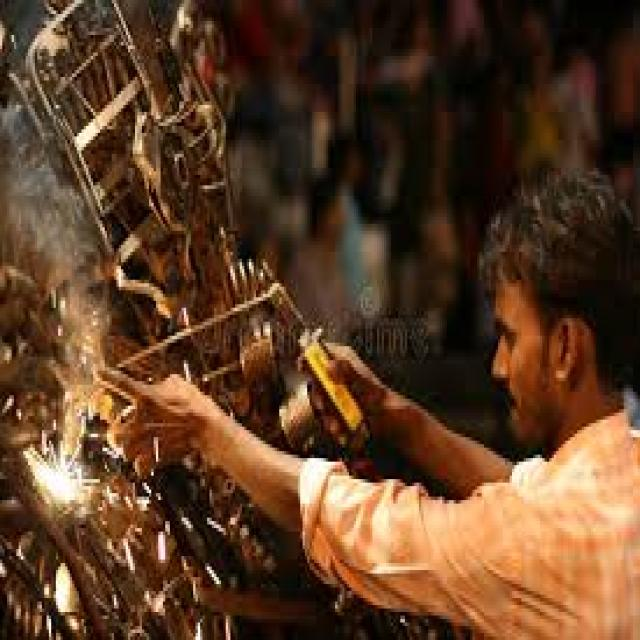without_helmet: (443, 121, 640, 464)
